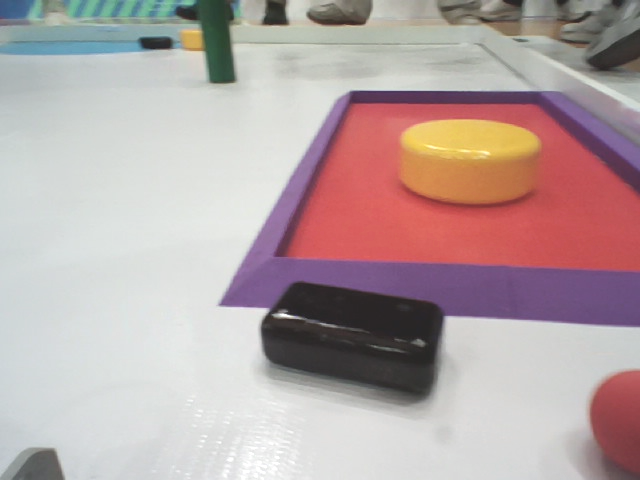black: (253, 279, 449, 392), (137, 34, 173, 50)
kuang: (223, 89, 640, 328)
red: (587, 371, 640, 480)
yellow: (399, 119, 542, 204), (178, 27, 217, 49)
zhuzi: (195, 1, 238, 88)
